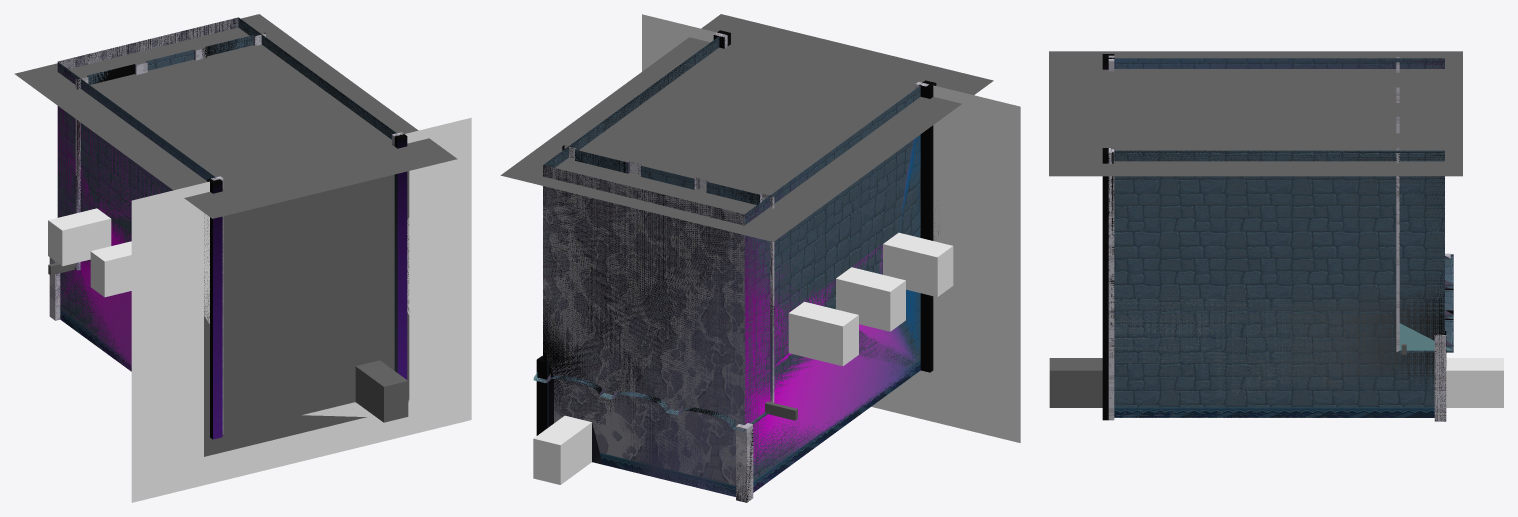
Rendered from jin_03.dae.
3 views of the same model, side by side, from view 1: azimuth 30°, elevation 25°; view 2: azimuth 150°, elevation 25°; view 3: azimuth 270°, elevation 25° (orthographic). The views are drawn at different scales.
Parts seen in each view (by area): view 1: S_msk, a_ten03, a_kabe_mae, S_kabe_l_part0, a_gawa02, a_hasira02, a_hasira03, ashiba03_part0, a_bero_1, ashiba02, S_kabe_oku_part0, S_kabe_r_part0 (+5 smaller); view 2: a_gawa02, a_ten03, S_kabe_oku_part0, S_msk, S_kabe_l_part0, ashiba03_part0, ashiba01_part0, ashiba02, S_kabe_ue_part0, a_hasira02, a_bero_atari01, a_kabe_oku_02 (+7 smaller); view 3: S_kabe_r_part0, a_ten03, a_gawa02, S_kabe_l_part0, S_kabe_r_part1, a_bero_1, ashiba04, a_hasira03, pCube3_q00005, pCube5_q00006, S_kabe_ue_part1, a_kabe_oku_02 (+1 smaller).
Part boxes in pixels (x1=…): S_msk: x1=131, y1=117, x2=471, y2=502; a_ten03: x1=14, y1=14, x2=457, y2=218; a_kabe_mae: x1=204, y1=171, x2=409, y2=456; S_kabe_l_part0: x1=57, y1=62, x2=215, y2=354; a_gawa02: x1=57, y1=18, x2=395, y2=371; a_hasira02: x1=207, y1=178, x2=222, y2=439; a_hasira03: x1=392, y1=133, x2=407, y2=379; ashiba03_part0: x1=48, y1=208, x2=111, y2=266; a_bero_1: x1=355, y1=360, x2=408, y2=422; ashiba02: x1=90, y1=241, x2=131, y2=297; S_kabe_oku_part0: x1=58, y1=17, x2=238, y2=68; S_kabe_r_part0: x1=238, y1=18, x2=396, y2=139; a_gawa02: x1=543, y1=36, x2=920, y2=496; a_ten03: x1=500, y1=14, x2=993, y2=241; S_kabe_oku_part0: x1=543, y1=165, x2=744, y2=485; S_msk: x1=642, y1=14, x2=1020, y2=442; S_kabe_l_part0: x1=744, y1=85, x2=920, y2=481; ashiba03_part0: x1=788, y1=301, x2=858, y2=366; ashiba01_part0: x1=883, y1=232, x2=953, y2=297; ashiba02: x1=836, y1=267, x2=905, y2=331; S_kabe_ue_part0: x1=534, y1=149, x2=768, y2=431; a_hasira02: x1=919, y1=80, x2=936, y2=372; a_bero_atari01: x1=533, y1=415, x2=591, y2=484; a_kabe_oku_02: x1=533, y1=145, x2=774, y2=424; S_kabe_r_part0: x1=1114, y1=150, x2=1444, y2=407; a_ten03: x1=1049, y1=51, x2=1462, y2=176; a_gawa02: x1=1114, y1=58, x2=1444, y2=417; S_kabe_l_part0: x1=1114, y1=58, x2=1444, y2=68; S_kabe_r_part1: x1=1114, y1=407, x2=1434, y2=417; a_bero_1: x1=1049, y1=358, x2=1102, y2=407; ashiba04: x1=1446, y1=358, x2=1503, y2=407; a_hasira03: x1=1102, y1=148, x2=1114, y2=420; pCube3_q00005: x1=1108, y1=148, x2=1114, y2=420; pCube5_q00006: x1=1434, y1=334, x2=1446, y2=421; S_kabe_ue_part1: x1=1396, y1=56, x2=1399, y2=352; a_kabe_oku_02: x1=1396, y1=147, x2=1453, y2=351.
Bounding box in the file's own units: 69.49 × 59.04 × 77.08.
